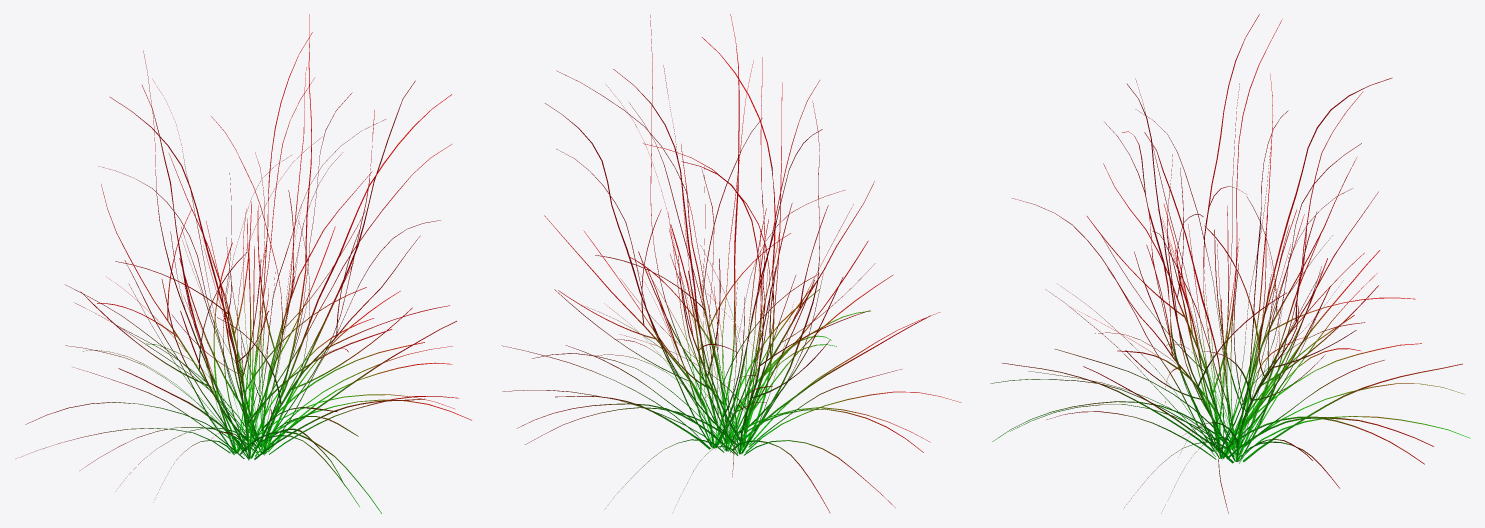
The model's file is Xeric Grass_LOD0_Var3_xjfgdhaqx.fbx.
The picture shows the model from 3 angles, left to right: view 1: azimuth 30°, elevation 25°; view 2: azimuth 150°, elevation 25°; view 3: azimuth 270°, elevation 25°; orthographic projection. The views are drawn at different scales.
Parts seen in each view (by area): view 1: _2zmd_Var3_LOD0; view 2: _2zmd_Var3_LOD0; view 3: _2zmd_Var3_LOD0.
Part boxes in pixels (x1=…): _2zmd_Var3_LOD0: x1=16, y1=14, x2=471, y2=513; _2zmd_Var3_LOD0: x1=502, y1=14, x2=961, y2=513; _2zmd_Var3_LOD0: x1=990, y1=14, x2=1470, y2=513.
Bounding box in the file's own units: 176 × 162 × 177.
